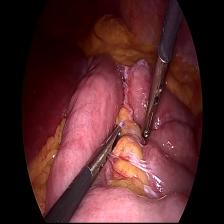Grasper: (138, 49, 173, 140), (85, 118, 129, 187)
